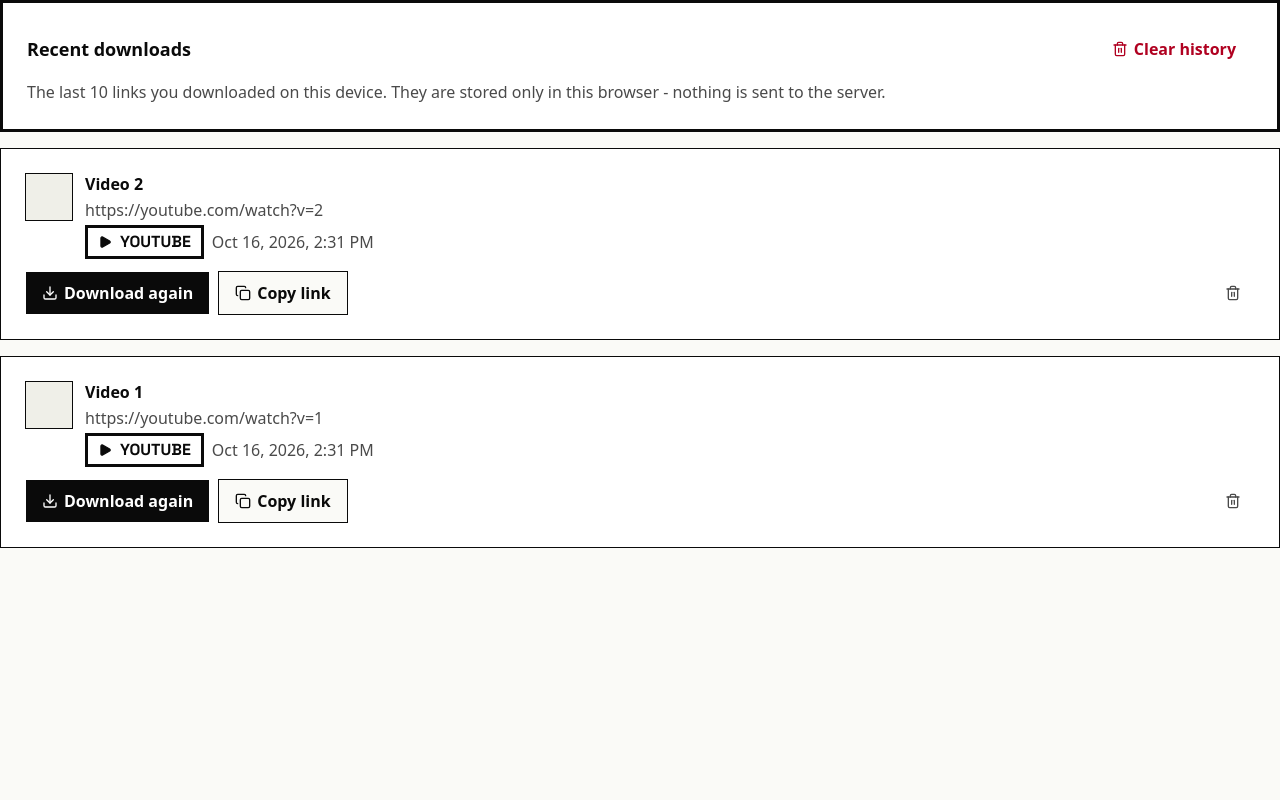
Scenario: HistoryPage › clears the whole history
Click the button "Clear history": (1174, 49) [1095,27,1253,71]
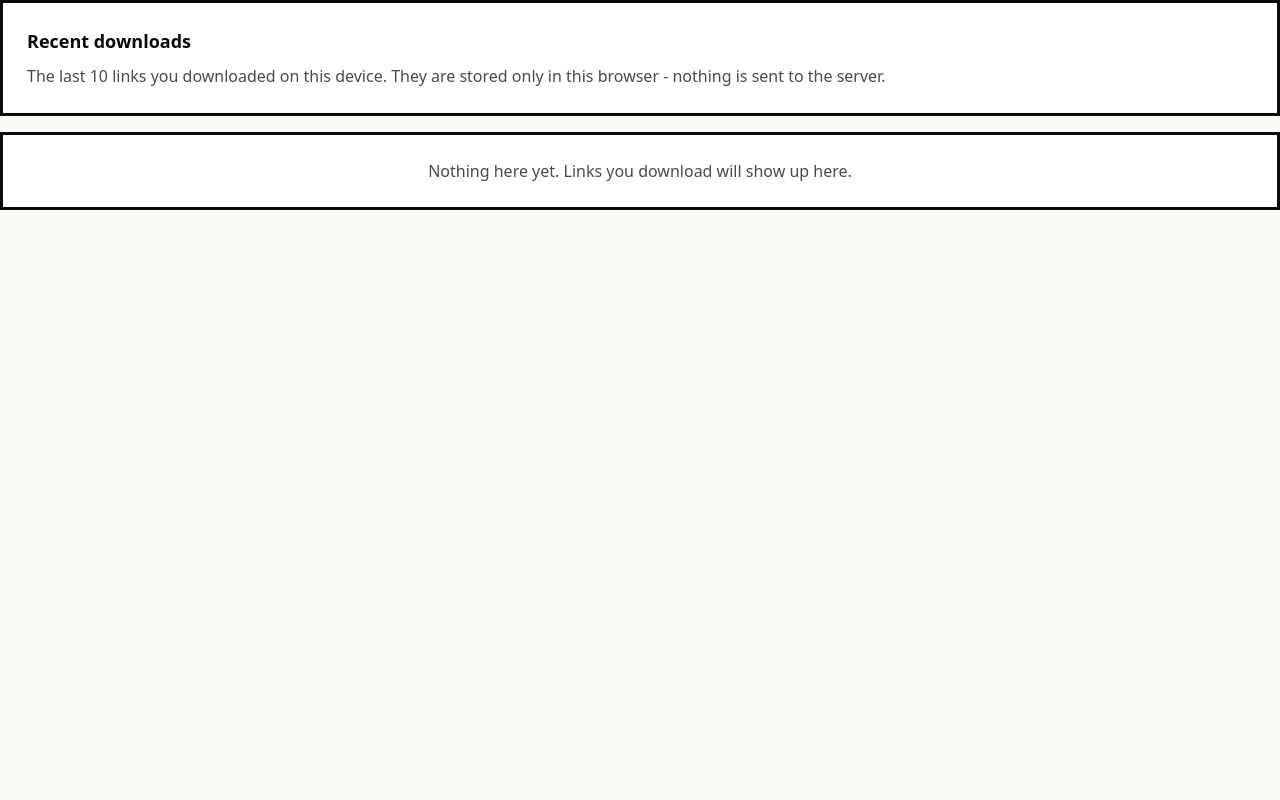
Now the text "Nothing here yet. Links you download will show up here." is shown, box [428,160,852,182]
